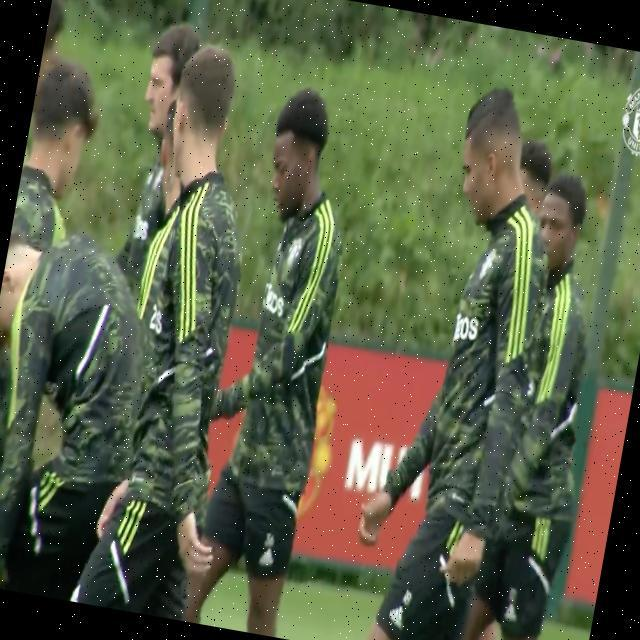Adidas: (388, 602, 406, 628), (258, 547, 276, 568), (502, 605, 519, 625)
